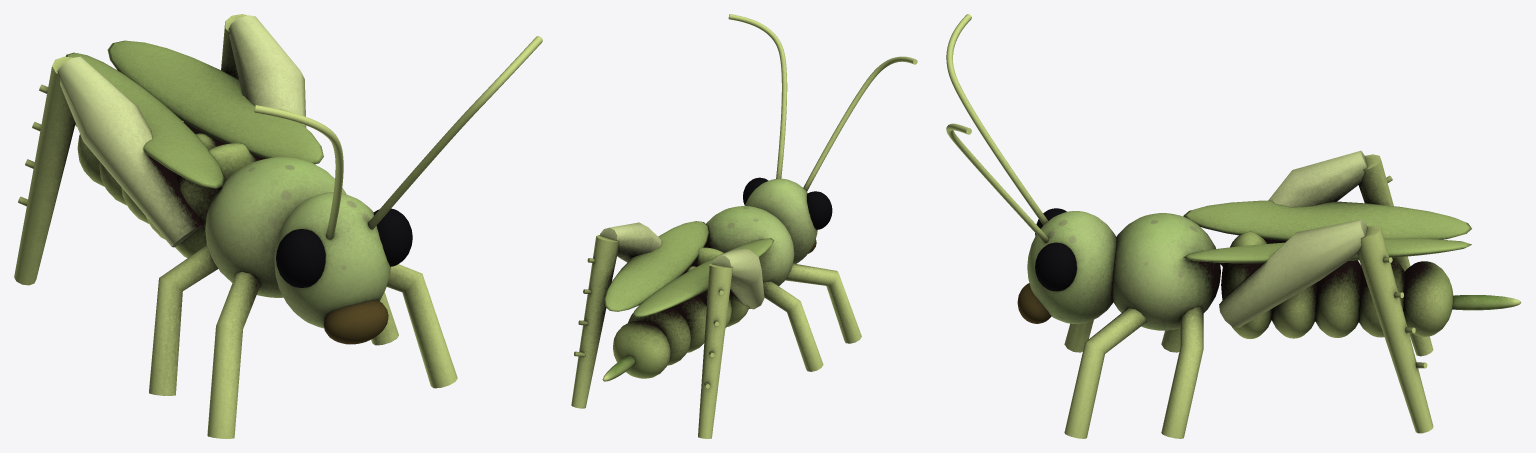
The model's file is pet_grilo.glb.
The picture shows the model from 3 angles, left to right: view 1: azimuth 30°, elevation 25°; view 2: azimuth 150°, elevation 25°; view 3: azimuth 270°, elevation 25°; orthographic projection. The views are drawn at different scales.
Visible parts, largest first — view 1: corpo, cabeca, asa_d, asa_e; view 2: corpo, cabeca, asa_d, asa_e; view 3: corpo, cabeca, asa_e, asa_d.
Part boxes in pixels (box(x1,y1,x2,y2)): corpo: box(14, 14, 457, 438); cabeca: box(254, 36, 542, 344); asa_d: box(107, 40, 323, 164); asa_e: box(65, 52, 224, 188); corpo: box(571, 206, 861, 438); cabeca: box(728, 14, 917, 263); asa_d: box(604, 221, 709, 311); asa_e: box(632, 238, 774, 317); corpo: box(1064, 150, 1521, 438); cabeca: box(946, 14, 1116, 323); asa_e: box(1183, 200, 1471, 240); asa_d: box(1183, 238, 1471, 263).
Bounding box in the file's own units: 0.2837 × 0.3668 × 0.5933.
Materials: 1 (1 with a texture image).
